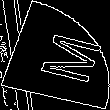M_W: (17, 25, 93, 85)
